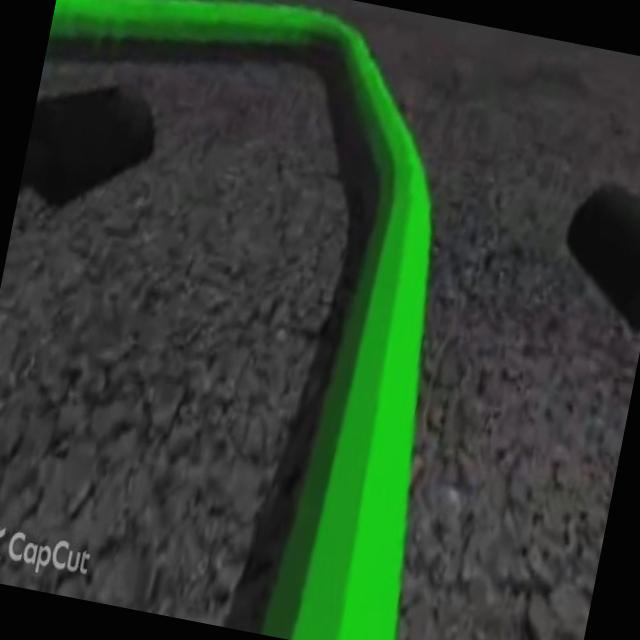gas: (254, 133, 493, 640)
